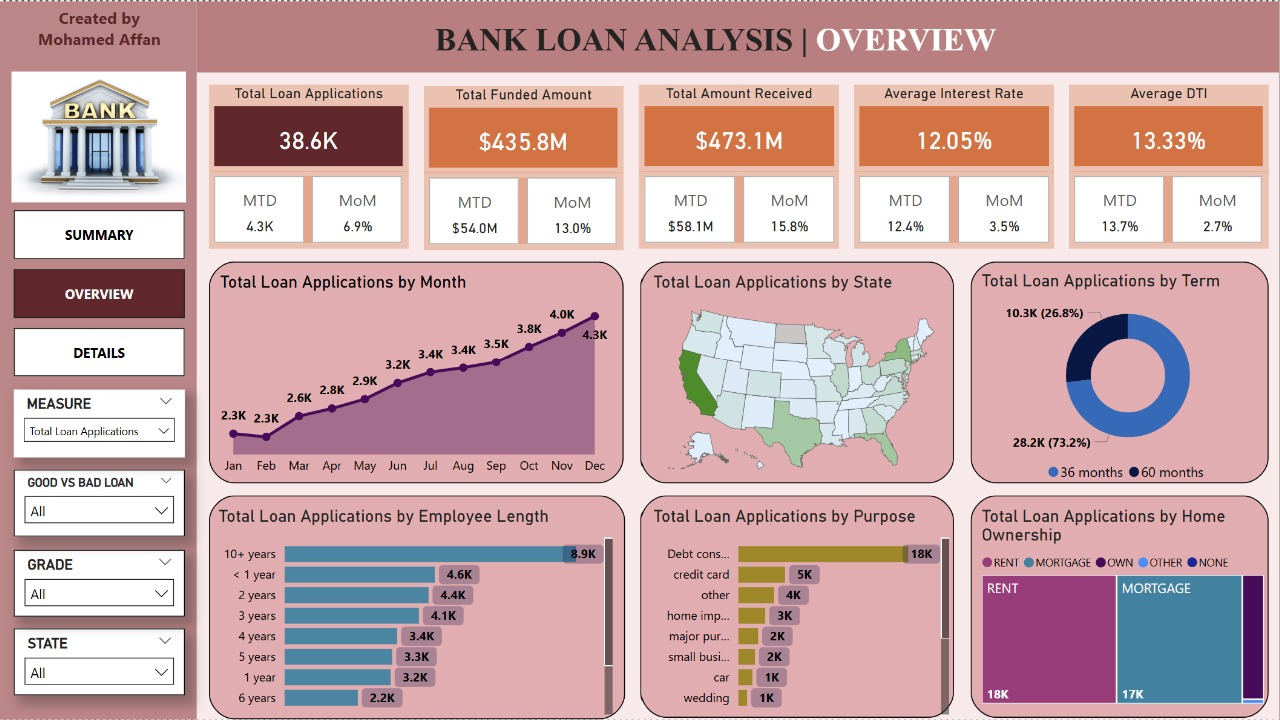

The dashboard page shown, as its layout file describes it:
{"tool":"powerbi","page":{"name":"OVERVIEW","canvas":[1280,720],"ordinal":1},"visuals":[{"type":"shape","box":[0,0,1280.3,71.2],"z":0},{"type":"cardVisual","title":"Total Loan Applications","fields":{"Data":["bank_loan_data.Total Loan Applications"]},"box":[209.1,83.3,200,87.1],"z":0,"group":"g1"},{"type":"cardVisual","title":"Total Amount Received","fields":{"Data":["bank_loan_data.Total Amount Received"]},"box":[639.4,83.3,200,87.1],"z":0,"group":"g3"},{"type":"cardVisual","title":"Average Interest Rate","fields":{"Data":["bank_loan_data.Average Interest Rate"]},"box":[854.5,83.3,200,87.1],"z":0,"group":"g4"},{"type":"cardVisual","title":"Average DTI","fields":{"Data":["bank_loan_data.Average DTI"]},"box":[1069.7,83.3,200,87.1],"z":0,"group":"g5"},{"type":"cardVisual","title":"Total Funded Amount","fields":{"Data":["bank_loan_data.Total Funded Amount"]},"box":[424.2,84.8,200,87.1],"z":0,"group":"g2"},{"type":"shape","box":[0,0,197,721.2],"z":1000},{"type":"cardVisual","fields":{"Data":["bank_loan_data.MTD Loan Applications","bank_loan_data.MoM Total Loan Applications"]},"box":[209.1,170.4,200,77.9],"z":1000,"group":"g1"},{"type":"cardVisual","fields":{"Data":["bank_loan_data.MTD Total Amount Received","bank_loan_data.MoM Total Amount Received"]},"box":[639.4,170.4,200,77.9],"z":1000,"group":"g3"},{"type":"cardVisual","fields":{"Data":["bank_loan_data.MTD Average Interest Rate","bank_loan_data.MoM Average Interest Rate"]},"box":[854.5,170.4,200,77.9],"z":1000,"group":"g4"},{"type":"cardVisual","fields":{"Data":["bank_loan_data.MTD Average DTI","bank_loan_data.MoM Average DTI"]},"box":[1069.7,170.4,200,77.9],"z":1000,"group":"g5"},{"type":"cardVisual","fields":{"Data":["bank_loan_data.MTD Total Funded Amount","bank_loan_data.MoM Total Funded Amount"]},"box":[424.2,171.9,200,77.9],"z":1000,"group":"g2"},{"type":"textbox","box":[410.6,15.2,610.6,56.1],"z":2000},{"type":"group","id":"g1","title":"Group 1","box":[209.1,83.3,200,165],"z":3000},{"type":"group","id":"g2","title":"Group 1","box":[424.2,84.8,200,165.2],"z":4000},{"type":"group","id":"g3","title":"Group 1","box":[639.4,83.3,200,165.2],"z":5000},{"type":"group","id":"g4","title":"Group 1","box":[854.5,83.3,200,165],"z":6000},{"type":"group","id":"g5","title":"Group 1","box":[1069.7,83.3,200,165],"z":7000},{"type":"slicer","title":"  STATE","fields":{"Values":["bank_loan_data.address_state"]},"box":[13.6,628.8,171.2,66.7],"z":8000},{"type":"slicer","title":"  STATE","fields":{"Values":["bank_loan_data.grade"]},"box":[13.6,549.6,171.2,66.7],"z":9000},{"type":"slicer","title":"  STATE","fields":{"Values":["bank_loan_data.Good vs Bad Loan"]},"box":[13.6,470.5,171.2,66.7],"z":10000},{"type":"shape","box":[209.1,260.6,415.2,222.7],"z":11000},{"type":"shape","box":[640.9,260.6,313.6,222.7],"z":12000},{"type":"shape","box":[971.2,260.6,298.5,222.7],"z":13000},{"type":"shape","box":[209.1,495.5,416.7,224.2],"z":14000},{"type":"shape","box":[640.9,495.5,313.6,222.7],"z":15000},{"type":"shape","box":[971.2,495.5,298.5,222.7],"z":16000},{"type":"areaChart","fields":{"Y":["bank_loan_data.Total Loan Applications"],"Category":["Date Table.Month"]},"box":[215.2,271.2,398.5,212.1],"z":17000},{"type":"slicer","fields":{"Values":["Measure.Measure"]},"box":[13.6,389.8,171.2,68.2],"z":18000},{"type":"shapeMap","fields":{"Value":["bank_loan_data.Total Loan Applications"],"Category":["bank_loan_data.address_state"]},"box":[648.5,271.2,306.1,216.7],"z":19000},{"type":"donutChart","fields":{"Y":["bank_loan_data.Total Loan Applications"],"Category":["bank_loan_data.term"]},"box":[977.3,269.7,303,221.2],"z":20000},{"type":"clusteredBarChart","fields":{"Y":["bank_loan_data.Total Loan Applications"],"Category":["bank_loan_data.emp_length"]},"box":[213.6,506.1,404.5,213.6],"z":21000},{"type":"clusteredBarChart","fields":{"Y":["bank_loan_data.Total Loan Applications"],"Category":["bank_loan_data.purpose"]},"box":[648.5,506.1,306.1,213.6],"z":22000},{"type":"treemap","fields":{"Values":["bank_loan_data.Total Loan Applications"],"Group":["bank_loan_data.home_ownership"]},"box":[977.3,506.1,292.4,203],"z":23000},{"type":"textbox","box":[6.1,0,190.9,83.3],"z":24000},{"type":"image","box":[6.1,60.6,184.8,150],"z":25000},{"type":"pageNavigator","box":[13.6,209.1,171.2,168.2],"z":26000}]}

Visuals, with their boxes in screenshot pixels (x1, y1, x2, y2), scaled from the page's 1280x720 canvas onto the 1280x720 screenshot:
shape: bbox(0, 0, 1279, 71)
"Total Loan Applications" cardVisual: bbox(209, 83, 409, 170)
"Total Amount Received" cardVisual: bbox(639, 83, 839, 170)
"Average Interest Rate" cardVisual: bbox(854, 83, 1054, 170)
"Average DTI" cardVisual: bbox(1070, 83, 1270, 170)
"Total Funded Amount" cardVisual: bbox(424, 85, 624, 172)
shape: bbox(0, 0, 197, 719)
cardVisual - bank_loan_data.MTD Loan Applications x bank_loan_data.MoM Total Loan Applications: bbox(209, 170, 409, 248)
cardVisual - bank_loan_data.MTD Total Amount Received x bank_loan_data.MoM Total Amount Received: bbox(639, 170, 839, 248)
cardVisual - bank_loan_data.MTD Average Interest Rate x bank_loan_data.MoM Average Interest Rate: bbox(854, 170, 1054, 248)
cardVisual - bank_loan_data.MTD Average DTI x bank_loan_data.MoM Average DTI: bbox(1070, 170, 1270, 248)
cardVisual - bank_loan_data.MTD Total Funded Amount x bank_loan_data.MoM Total Funded Amount: bbox(424, 172, 624, 250)
textbox: bbox(411, 15, 1021, 71)
"Group 1" group: bbox(209, 83, 409, 248)
"Group 1" group: bbox(424, 85, 624, 250)
"Group 1" group: bbox(639, 83, 839, 248)
"Group 1" group: bbox(854, 83, 1054, 248)
"Group 1" group: bbox(1070, 83, 1270, 248)
"  STATE" slicer: bbox(14, 629, 185, 696)
"  STATE" slicer: bbox(14, 550, 185, 616)
"  STATE" slicer: bbox(14, 470, 185, 537)
shape: bbox(209, 261, 624, 483)
shape: bbox(641, 261, 954, 483)
shape: bbox(971, 261, 1270, 483)
shape: bbox(209, 496, 626, 719)
shape: bbox(641, 496, 954, 718)
shape: bbox(971, 496, 1270, 718)
areaChart - bank_loan_data.Total Loan Applications x Date Table.Month: bbox(215, 271, 614, 483)
slicer - Measure.Measure: bbox(14, 390, 185, 458)
shapeMap - bank_loan_data.Total Loan Applications x bank_loan_data.address_state: bbox(648, 271, 955, 488)
donutChart - bank_loan_data.Total Loan Applications x bank_loan_data.term: bbox(977, 270, 1279, 491)
clusteredBarChart - bank_loan_data.Total Loan Applications x bank_loan_data.emp_length: bbox(214, 506, 618, 719)
clusteredBarChart - bank_loan_data.Total Loan Applications x bank_loan_data.purpose: bbox(648, 506, 955, 719)
treemap - bank_loan_data.Total Loan Applications x bank_loan_data.home_ownership: bbox(977, 506, 1270, 709)
textbox: bbox(6, 0, 197, 83)
image: bbox(6, 61, 191, 211)
pageNavigator: bbox(14, 209, 185, 377)
